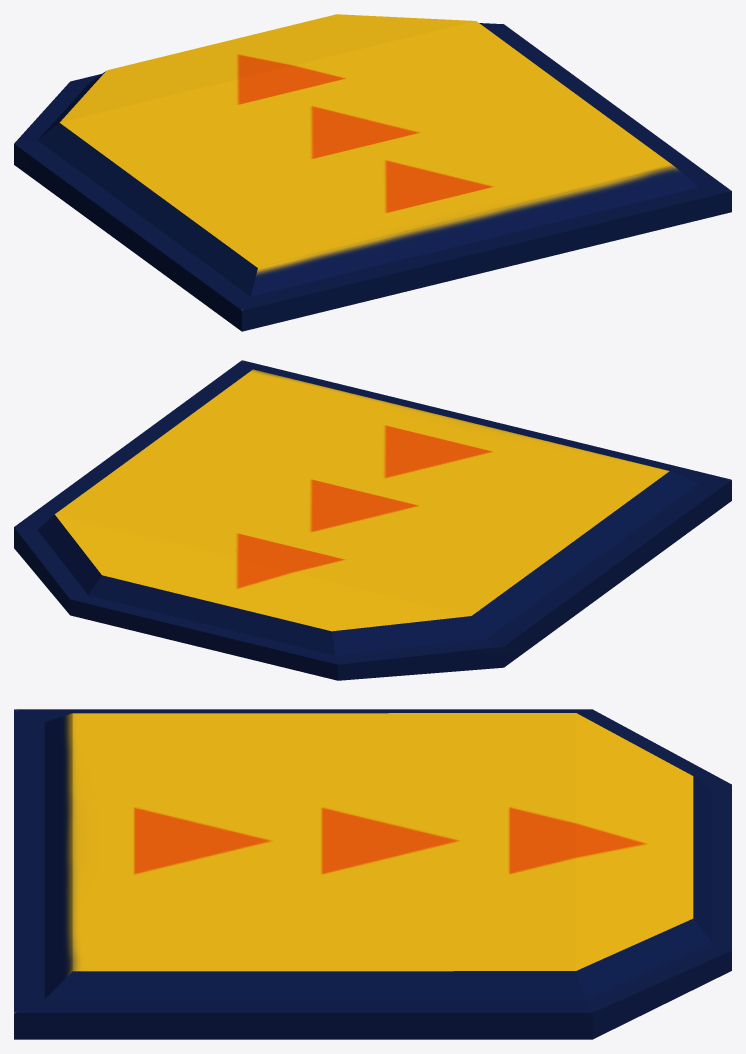
File: booster_normal.fbx
3 views of the same model, one above another, from view 1: azimuth 30°, elevation 25°; view 2: azimuth 150°, elevation 25°; view 3: azimuth 270°, elevation 25° (orthographic). The views are drawn at different scales.
Parts seen in each view (by area): view 1: Cube; view 2: Cube; view 3: Cube.
Boxes of the visible parts, left/top/right/bottom form: Cube: left=14, top=14, right=731, bottom=331; Cube: left=14, top=360, right=731, bottom=680; Cube: left=14, top=709, right=731, bottom=1039.
Size of the model in its own units: 200 by 14.58 by 200.
Materials: 1 (1 with a texture image).
